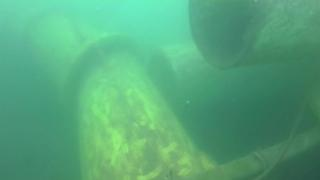pipe: (72, 51, 219, 180), (142, 45, 320, 111), (17, 5, 139, 96), (187, 1, 320, 71)
